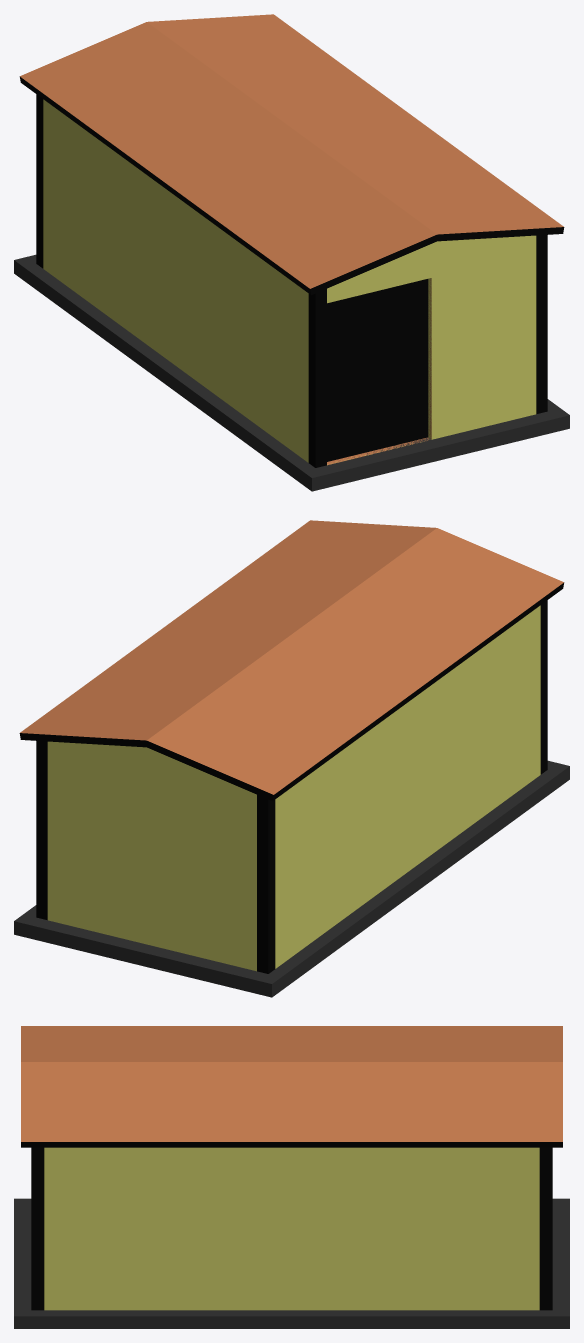
File: Warehouse long.fbx
The picture shows the model from 3 angles, top to bottom: view 1: azimuth 30°, elevation 25°; view 2: azimuth 150°, elevation 25°; view 3: azimuth 270°, elevation 25°; orthographic projection. The views are drawn at different scales.
Parts seen in each view (by area): view 1: Warehouse long; view 2: Warehouse long; view 3: Warehouse long.
Boxes of the visible parts, bbox=[...] form: Warehouse long: bbox=[14, 14, 569, 491]; Warehouse long: bbox=[14, 520, 569, 997]; Warehouse long: bbox=[14, 1026, 569, 1328].
Bounding box in the file's own units: 400 × 330 × 800.
